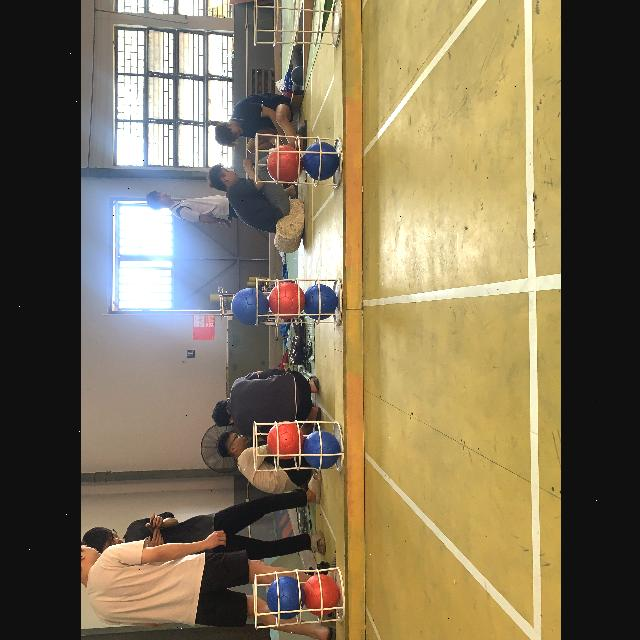B: (266, 576, 304, 620), (231, 288, 267, 326), (302, 142, 338, 180), (304, 431, 338, 471), (301, 284, 337, 320)
R: (302, 572, 338, 616), (266, 421, 304, 459), (268, 282, 304, 321), (266, 145, 302, 183)
